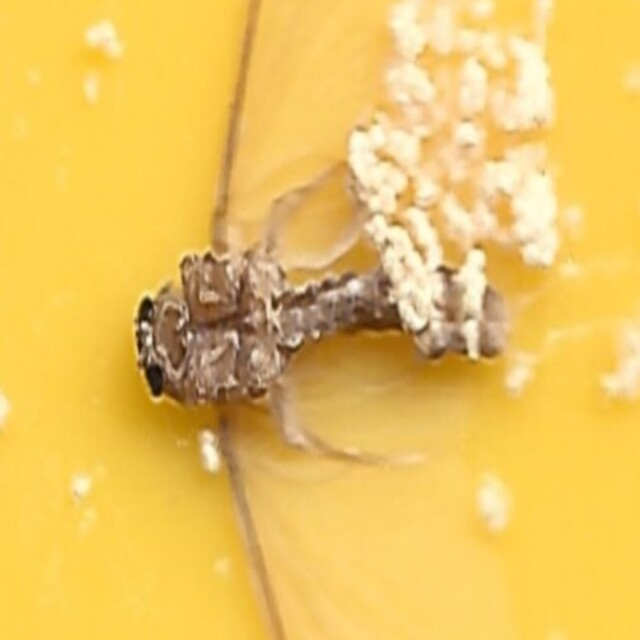Ephemeroptera: (128, 235, 512, 405)
